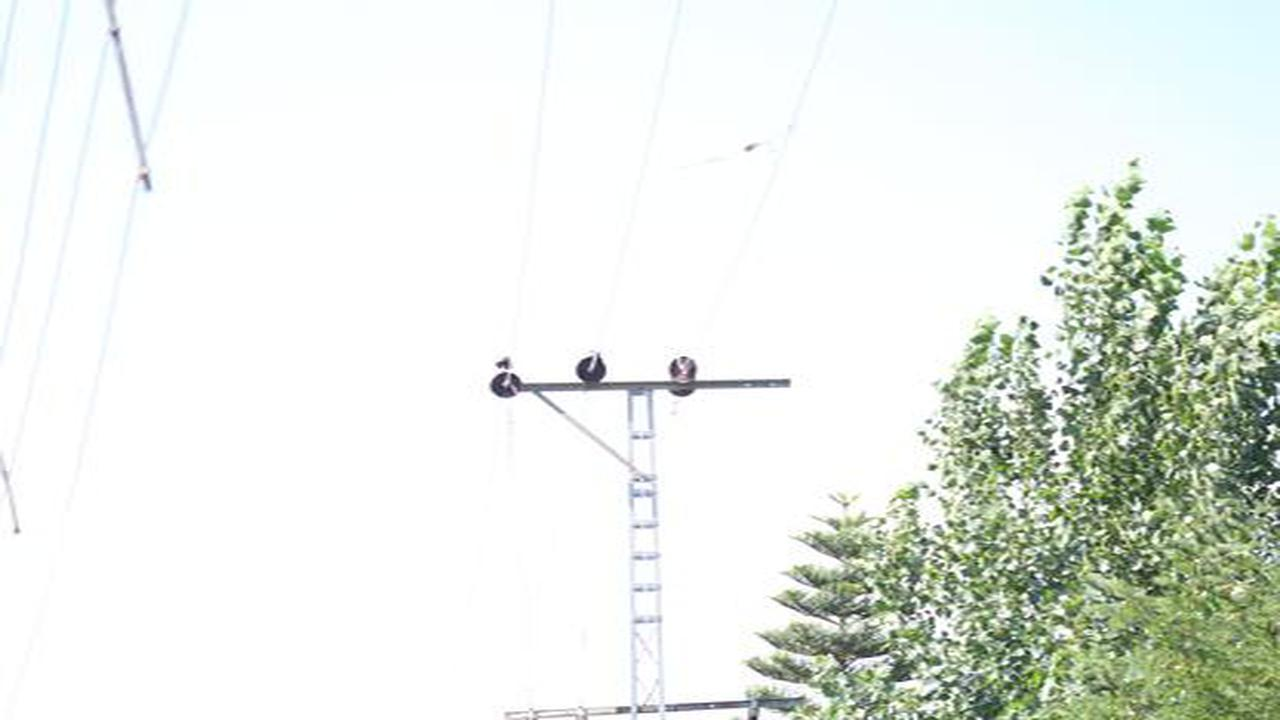insulator_disc: (570, 348, 614, 387), (669, 352, 704, 388), (488, 374, 527, 402)
